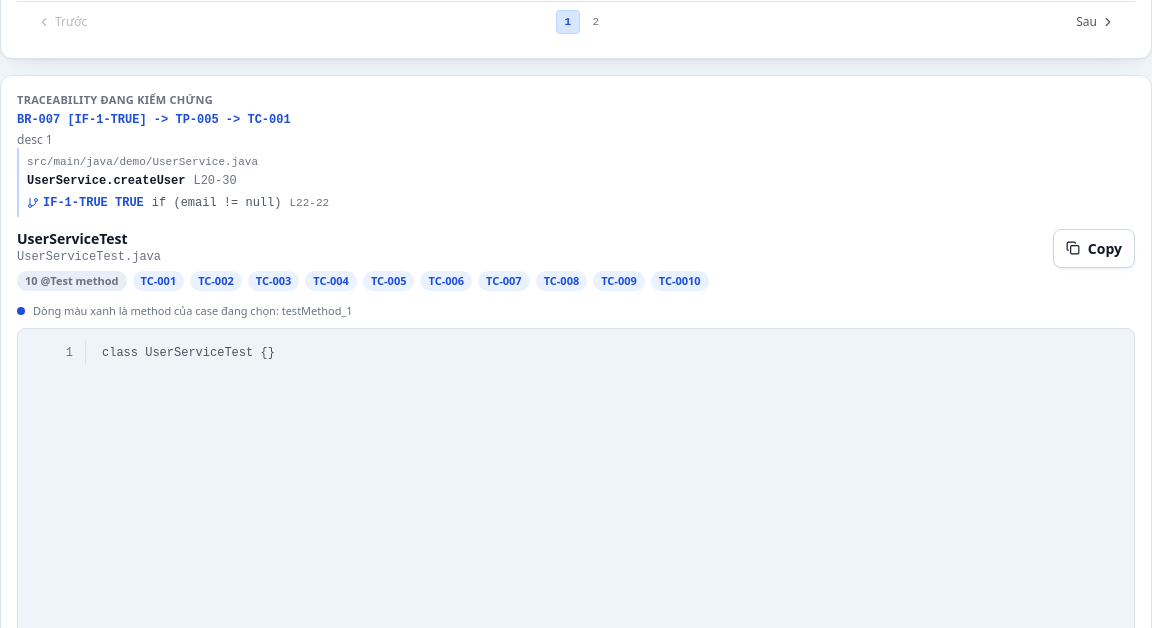
Scenario: UnitTestsPanel › jumps to the corresponding page when clicking a case code chip in the file view
(page scrolled)
Note: Bấm chip TC-009 ở phần file view bên phải
What coordinates should you click on to do the following:
click the button "TC-009"
I would click on:
 (619, 281)
Its box is [593,270,645,291].
(page scrolled)
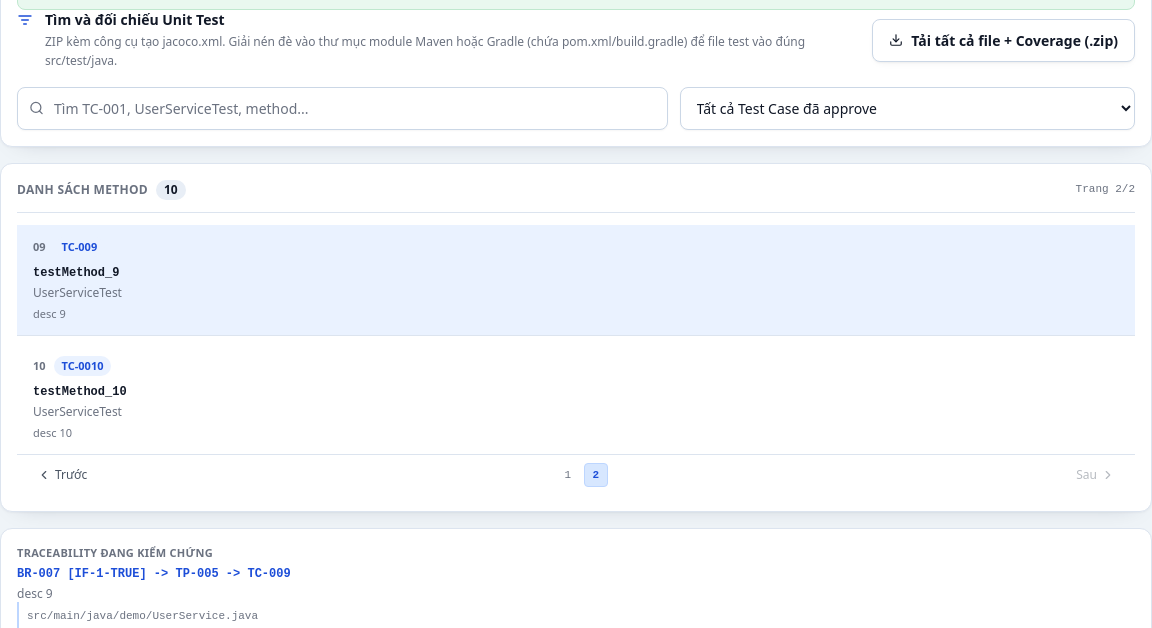
expect the text "Trang 2/2" is shown: met, box [1076,181,1135,198]
expect the button "09 TC-009 testMethod_9 UserServiceTest desc 9" is shown: met, box [17,224,1135,336]
